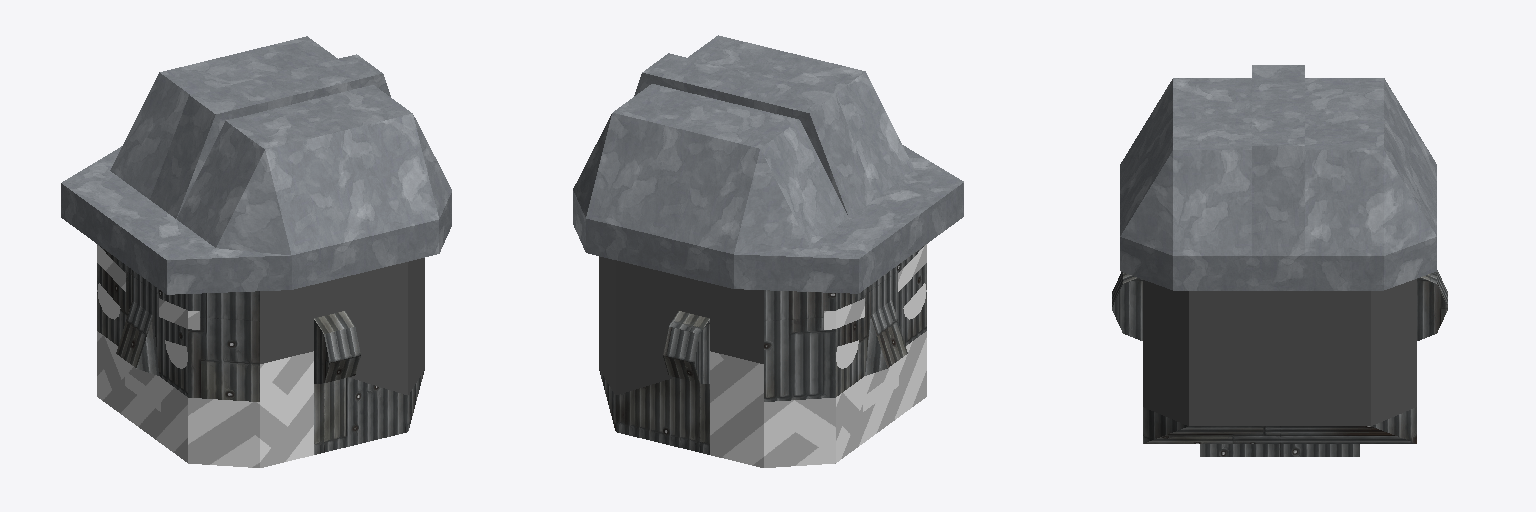
The picture shows the model from 3 angles: view 1: azimuth 30°, elevation 25°; view 2: azimuth 150°, elevation 25°; view 3: azimuth 270°, elevation 25°; orthographic projection.
Visible parts, largest first — view 1: mergedBlocks; view 2: mergedBlocks; view 3: mergedBlocks.
Boxes of the visible parts, <box> form: mergedBlocks: <box>61,36,451,467</box>; mergedBlocks: <box>573,35,963,467</box>; mergedBlocks: <box>1112,65,1447,456</box>.
Bounding box in the file's own units: 1.17 × 1.29 × 1.2.
Materials: 5 (3 with a texture image).